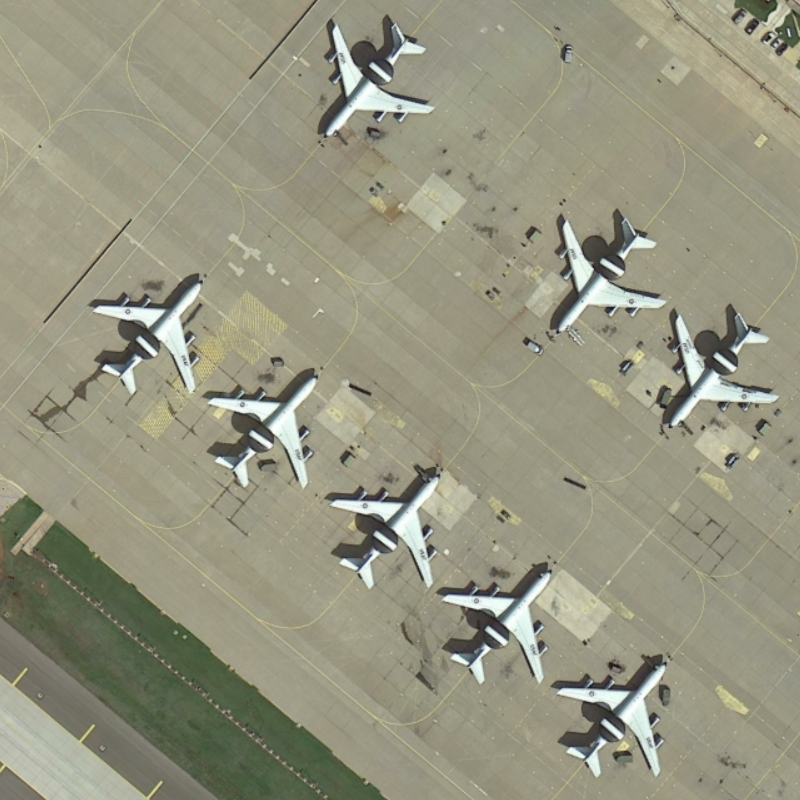A7: (307, 7, 448, 150), (87, 264, 214, 409), (537, 206, 669, 344), (551, 649, 679, 789), (201, 362, 327, 501), (656, 301, 782, 438), (435, 553, 556, 692), (321, 457, 441, 594)
